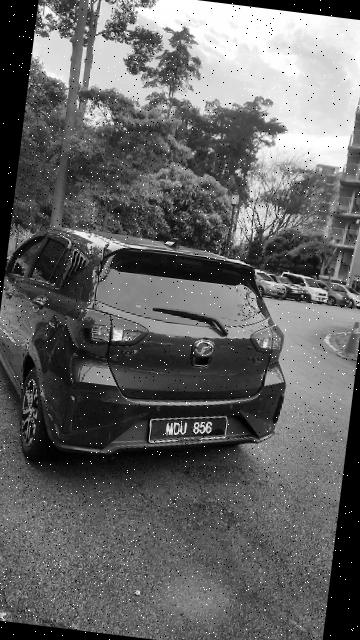License_Plate: (143, 404, 233, 454)
car: (1, 209, 305, 494)
